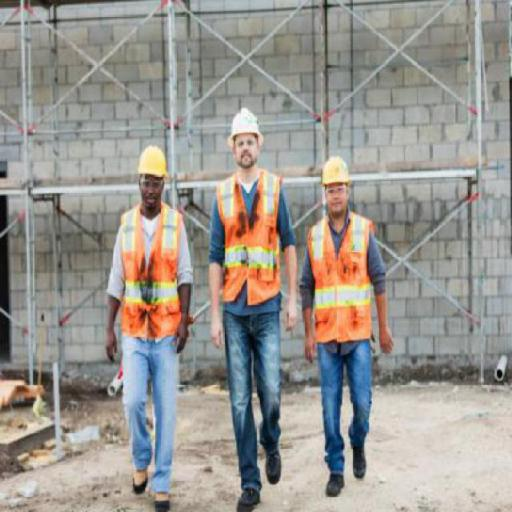glass: (137, 176, 166, 190), (230, 136, 258, 150), (322, 184, 348, 198)
hardhat: (225, 105, 269, 146), (136, 142, 172, 180), (318, 154, 354, 187)
person: (82, 126, 204, 507), (198, 98, 300, 503), (296, 144, 406, 498)
vest: (212, 165, 286, 308), (112, 204, 186, 342), (306, 212, 376, 351)
